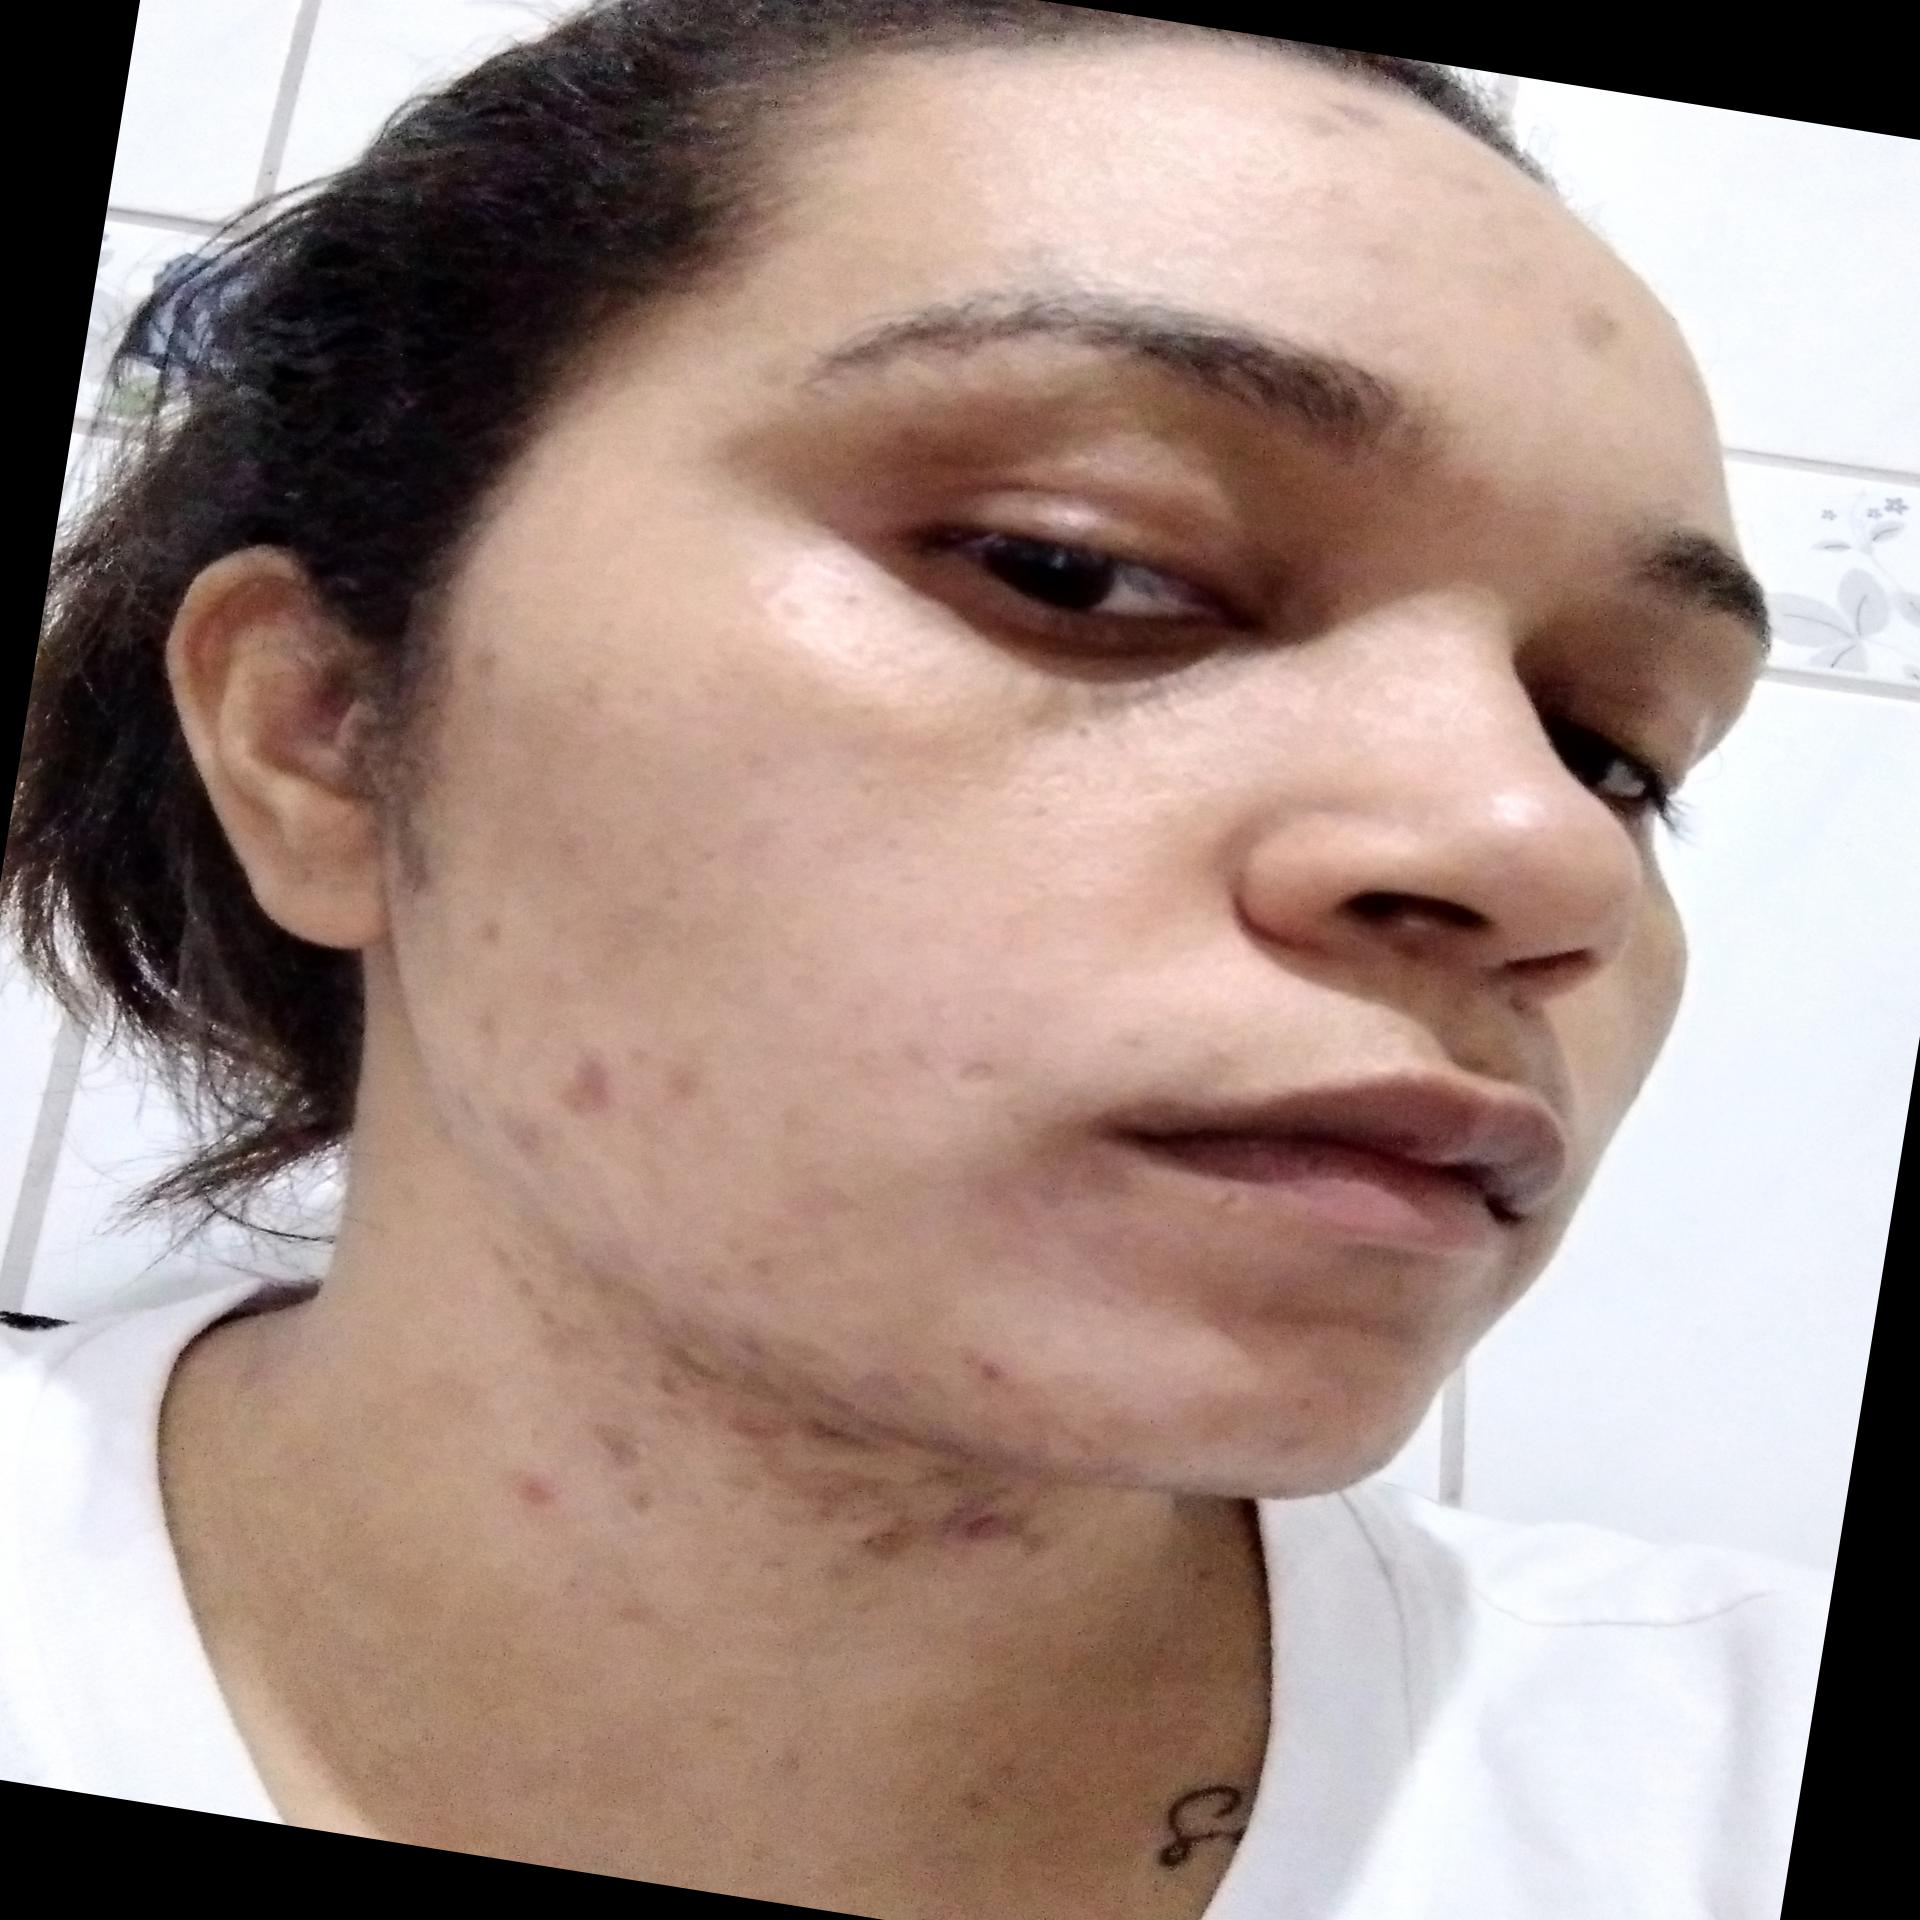Acne: (505, 1034, 631, 1139), (983, 1398, 1104, 1480), (726, 1324, 862, 1377), (492, 1108, 566, 1197), (1563, 288, 1653, 353), (932, 1333, 1020, 1396), (1412, 167, 1509, 223), (645, 1051, 723, 1118), (795, 1169, 881, 1225), (452, 633, 522, 698), (441, 999, 517, 1051), (1306, 93, 1380, 144), (1271, 1377, 1331, 1435), (730, 1245, 793, 1292), (457, 902, 512, 951)
